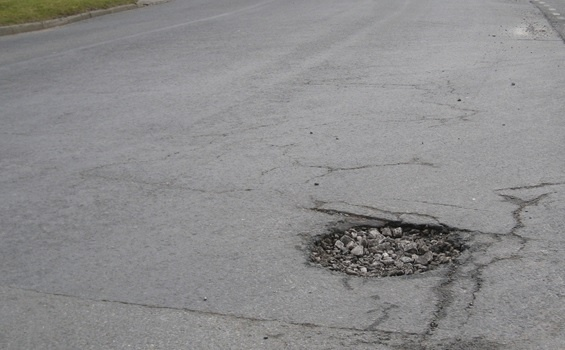pothole: (305, 215, 454, 273)
